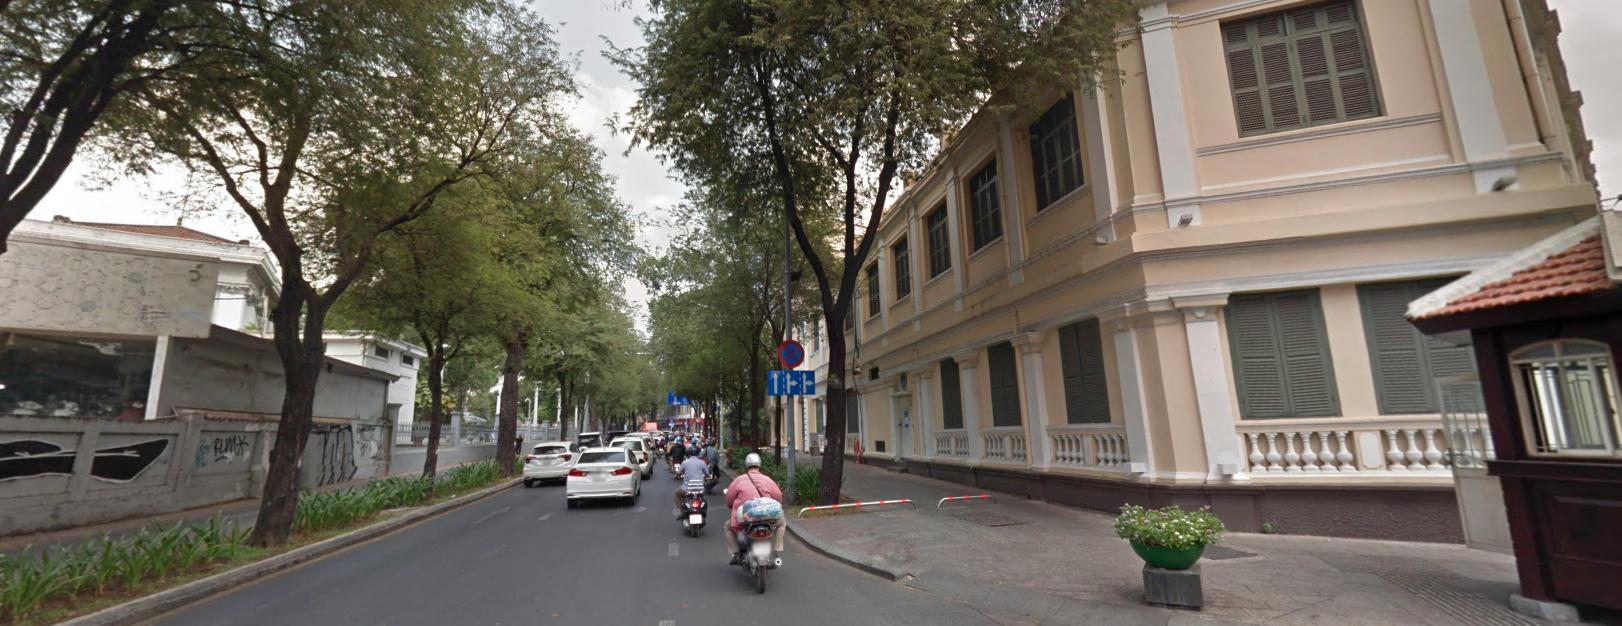Cam dung va do: (778, 338, 805, 366)
Cam re: (694, 416, 700, 421)
